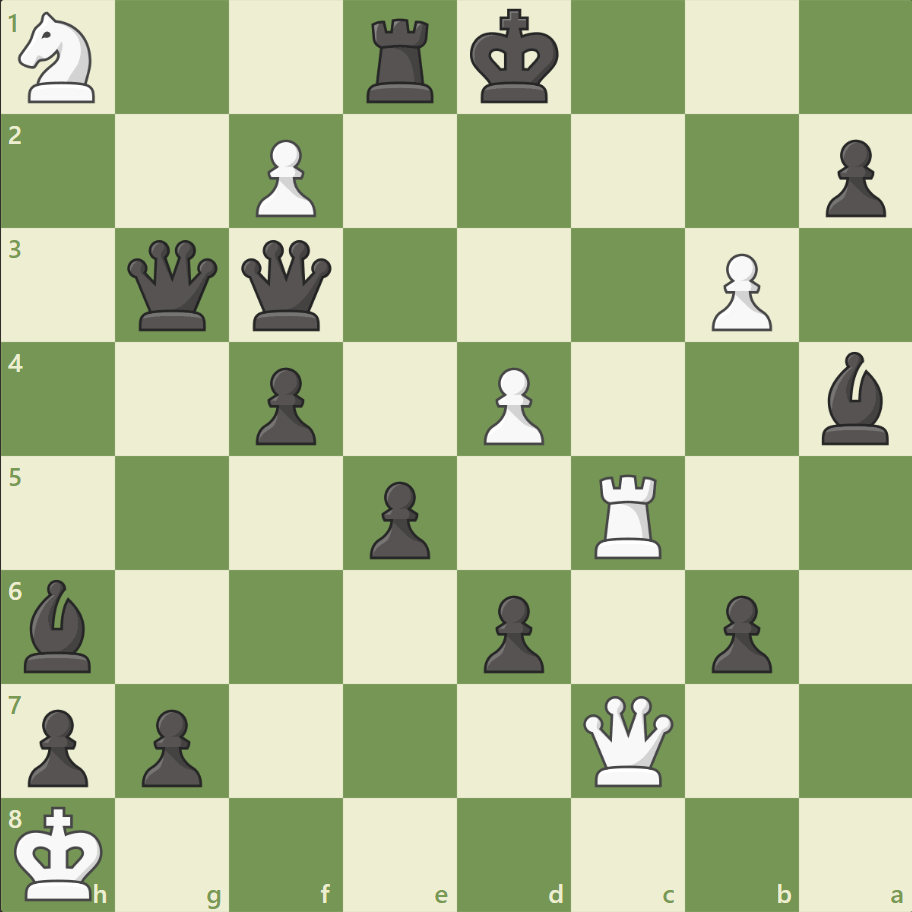K: (11, 798, 111, 906)
N: (11, 7, 108, 110)
P: (474, 359, 549, 450), (701, 246, 776, 337), (247, 132, 322, 223)
Q: (578, 690, 677, 789)
R: (587, 466, 670, 563)
b: (17, 574, 101, 676), (812, 347, 896, 449)
k: (465, 4, 565, 112)
p: (133, 700, 208, 791), (20, 700, 95, 791), (701, 586, 776, 677), (474, 586, 549, 677), (247, 359, 322, 450), (361, 473, 435, 564), (815, 132, 889, 223)
q: (237, 236, 336, 335), (124, 236, 223, 335)
r: (360, 12, 442, 109)
